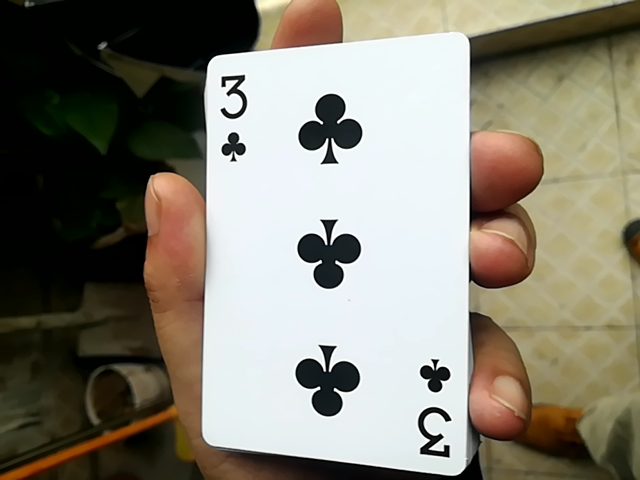mh 3: (186, 33, 477, 470)
